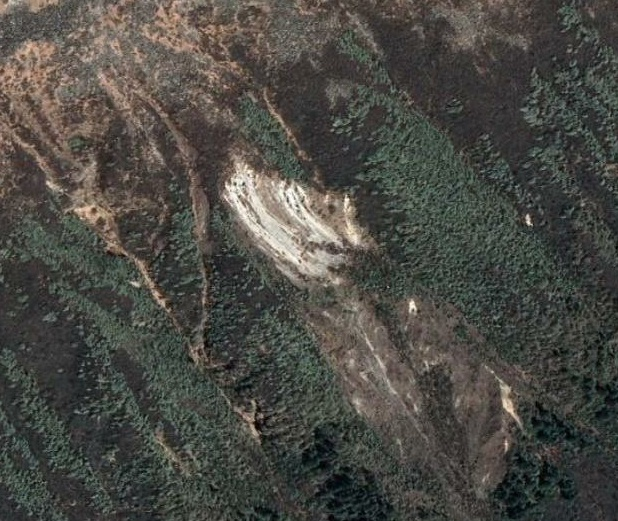slope: (218, 144, 393, 324), (481, 359, 531, 437)
